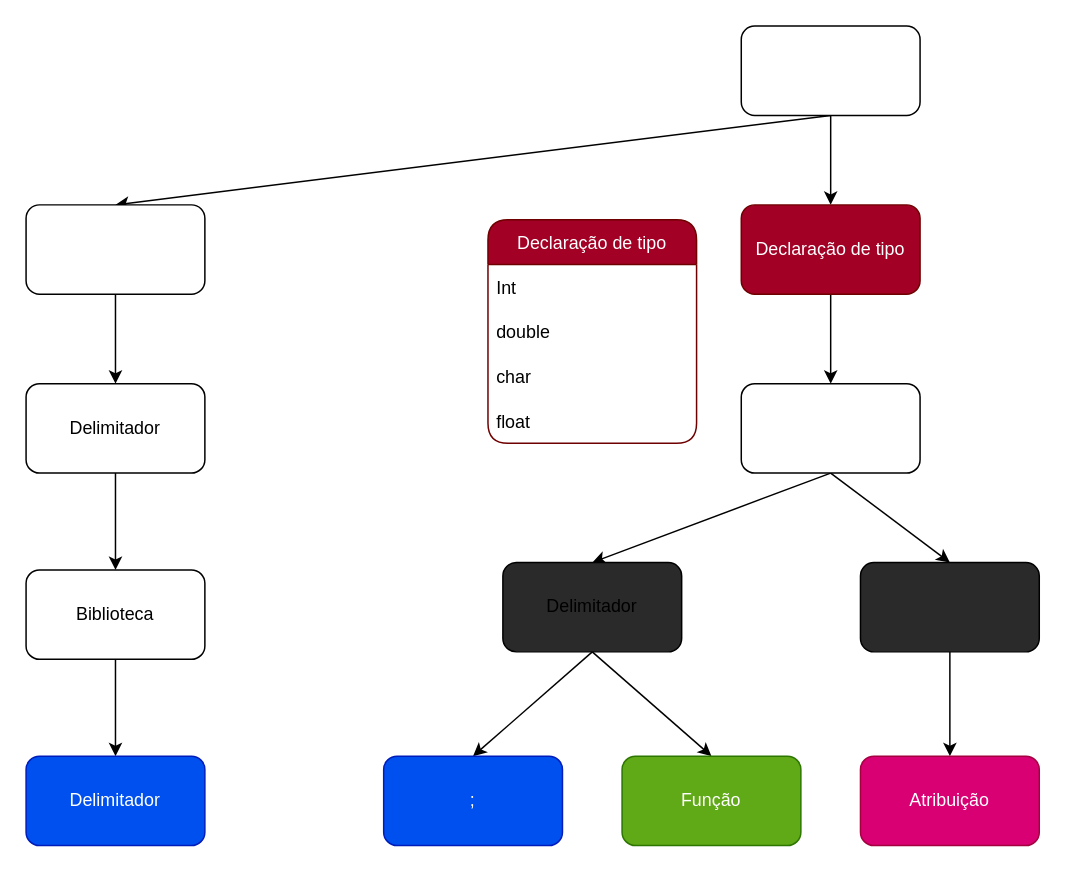
Some shapes in this 1065 by 872 pixel diagram are drawn without their labels. The shapes that lost their labels are listed below. From the top down, each one's centre as x and y in pixels, then its label:
pixel 830 70: Palavra reservada
pixel 115 248: #include
pixel 830 427: identificador
pixel 949 606: Operador de atribuição
